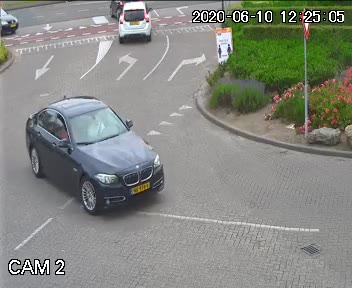car: (13, 90, 169, 212), (109, 2, 167, 47)
